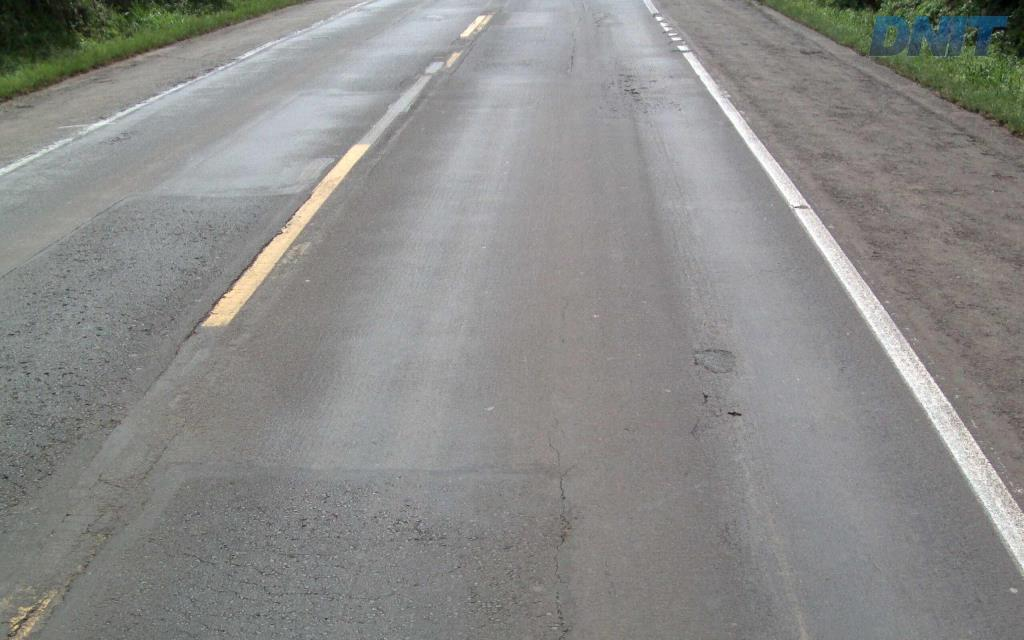pothole: (723, 405, 744, 424)
